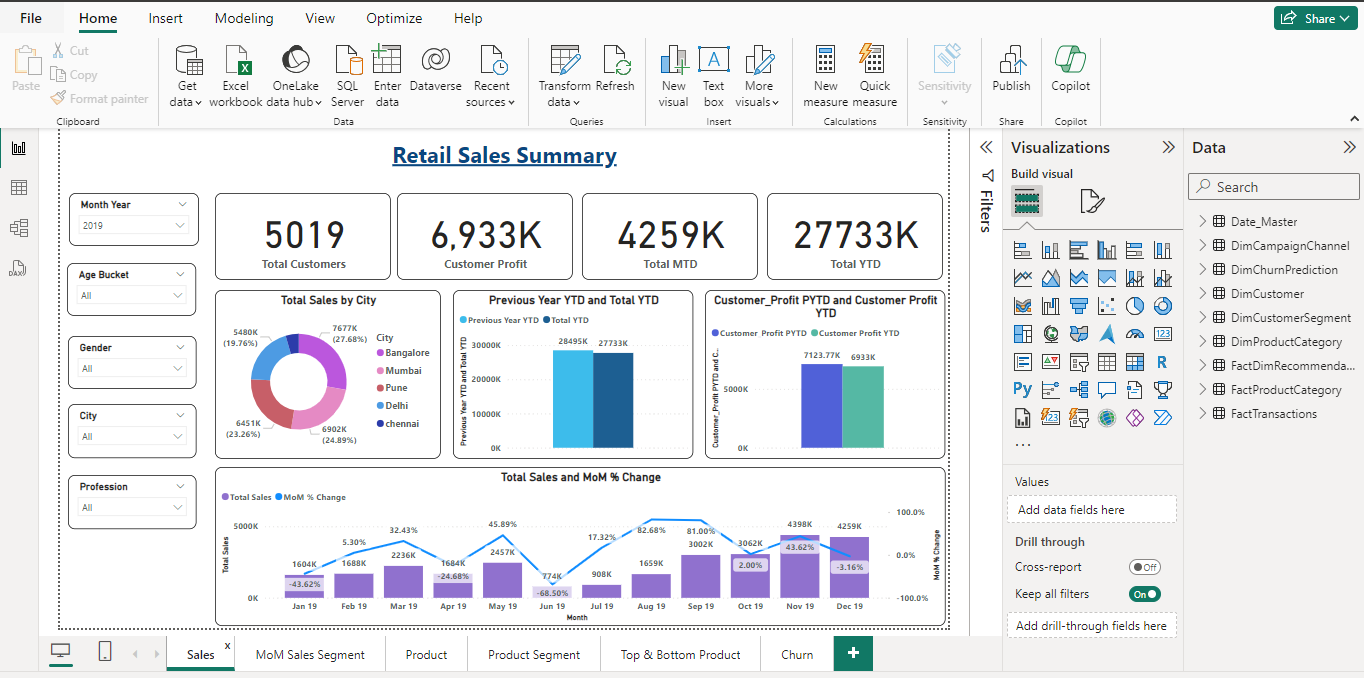

The dashboard page shown, as its layout file describes it:
{"tool":"powerbi","page":{"name":"Sales","canvas":[1280,720],"ordinal":0},"visuals":[{"type":"card","fields":{"Values":["FactTransactions.Customer Profit"]},"box":[485.3,93.6,253.4,125.3],"z":0},{"type":"card","fields":{"Values":["FactTransactions.Total_MDT"]},"box":[751.7,93.6,253.4,125.3],"z":1000},{"type":"donutChart","fields":{"Category":["DimCustomer.CITY"],"Y":["FactTransactions.Total_sales"]},"box":[223.8,232.7,325.2,243.2],"z":2000},{"type":"slicer","fields":{"Values":["Date_Master.Year","Date_Master.Month Text"]},"box":[13.5,93.4,186.6,76.5],"z":3000},{"type":"slicer","fields":{"Values":["DimCustomer.Age Bucket"]},"box":[10.4,193.9,186.5,76.1],"z":4000},{"type":"slicer","fields":{"Values":["DimCustomer.GENDER"]},"box":[11.9,299.9,185,76.1],"z":5000},{"type":"slicer","fields":{"Values":["DimCustomer.CITY"]},"box":[11.9,396.8,185,77.6],"z":6000},{"type":"slicer","fields":{"Values":["DimCustomer.PROFESSION"]},"box":[11.9,499.8,185,77.6],"z":7000},{"type":"card","fields":{"Values":["DimCustomer.Sales by Ship Date"]},"box":[223.2,93.6,253.4,125.3],"z":8000},{"type":"lineStackedColumnComboChart","title":"Total Sales and MoM % Change","fields":{"Category":["Date_Master.Month Text"],"Y":["FactTransactions.Total_sales"],"Y2":["FactTransactions.MoM % Change"]},"box":[223.3,487.8,1052.1,229.4],"z":9000},{"type":"card","fields":{"Values":["FactTransactions.Total_YDT"]},"box":[1018.1,93.6,253.4,125.3],"z":10000},{"type":"clusteredColumnChart","fields":{"Y":["FactTransactions.Previous Year YTD","FactTransactions.Total_YDT"]},"box":[565.4,232.7,346.1,243.2],"z":11000},{"type":"clusteredColumnChart","fields":{"Y":["FactTransactions.Customer_Profit PYTD","FactTransactions.Customer Profit YTD"]},"box":[929.4,232.7,346.1,243.2],"z":12000},{"type":"textbox","box":[437,10.3,407.5,65],"z":13000}]}

Visuals, with their boxes on the page's 1280x720 design canvas (x1, y1, x2, y2). These are canvas units, not pixel positions in the 1364x678 screenshot, which may show the page scaled, cropped or inside an application window:
card - FactTransactions.Customer Profit: 485:94:739:219
card - FactTransactions.Total_MDT: 752:94:1005:219
donutChart - DimCustomer.CITY x FactTransactions.Total_sales: 224:233:549:476
slicer - Date_Master.Year x Date_Master.Month Text: 14:93:200:170
slicer - DimCustomer.Age Bucket: 10:194:197:270
slicer - DimCustomer.GENDER: 12:300:197:376
slicer - DimCustomer.CITY: 12:397:197:474
slicer - DimCustomer.PROFESSION: 12:500:197:577
card - DimCustomer.Sales by Ship Date: 223:94:477:219
"Total Sales and MoM % Change" lineStackedColumnComboChart: 223:488:1275:717
card - FactTransactions.Total_YDT: 1018:94:1272:219
clusteredColumnChart - FactTransactions.Previous Year YTD x FactTransactions.Total_YDT: 565:233:912:476
clusteredColumnChart - FactTransactions.Customer_Profit PYTD x FactTransactions.Customer Profit YTD: 929:233:1276:476
textbox: 437:10:844:75
